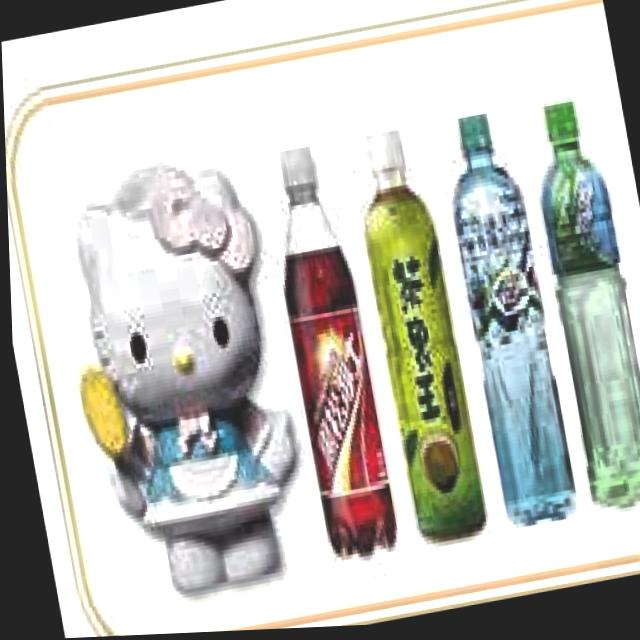Bottles: (407, 72, 587, 547), (321, 96, 500, 573), (487, 57, 640, 548), (245, 125, 405, 578)
